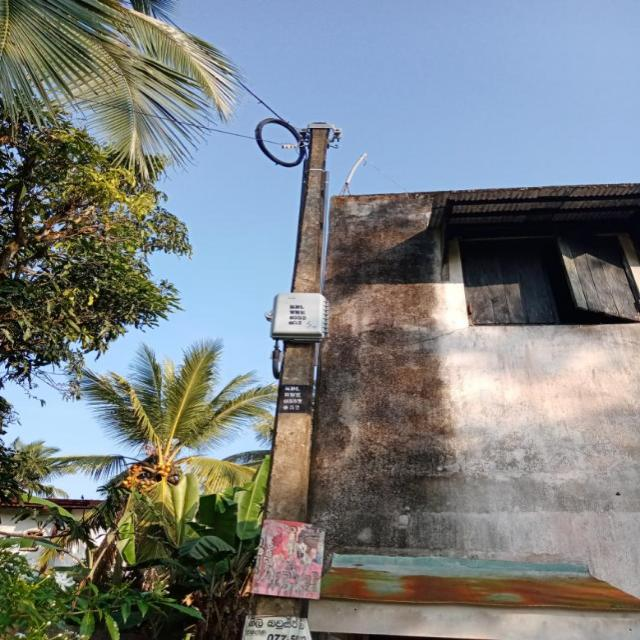light_pole: (237, 100, 338, 640)
